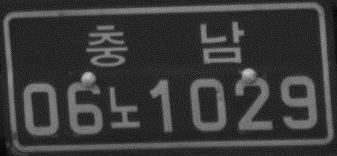0: (19, 78, 61, 138), (187, 76, 229, 135)
1: (143, 76, 176, 135)
2: (231, 67, 276, 134)
6: (65, 78, 103, 134)
9: (280, 71, 319, 132)
노: (100, 79, 144, 135)
충남_D: (85, 18, 248, 70)
